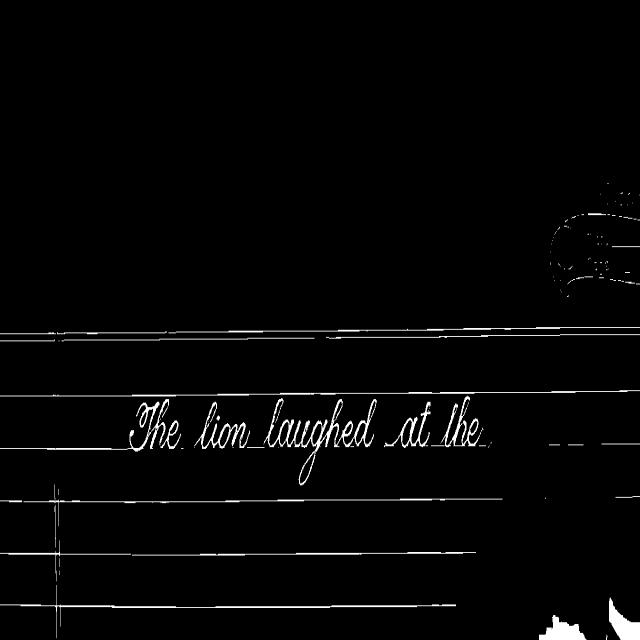hand: (609, 599, 640, 639), (539, 615, 585, 639)
noise: (0, 326, 640, 343), (0, 388, 640, 398), (0, 601, 456, 615), (0, 547, 476, 557), (59, 496, 504, 505), (50, 484, 61, 639), (0, 446, 136, 452), (616, 494, 640, 511), (548, 443, 640, 446), (0, 499, 55, 504)
not-noise: (264, 397, 376, 485), (129, 398, 181, 452), (194, 402, 250, 449), (384, 401, 432, 448), (443, 396, 482, 446), (440, 404, 458, 445)
page-marker: (551, 191, 640, 299)
